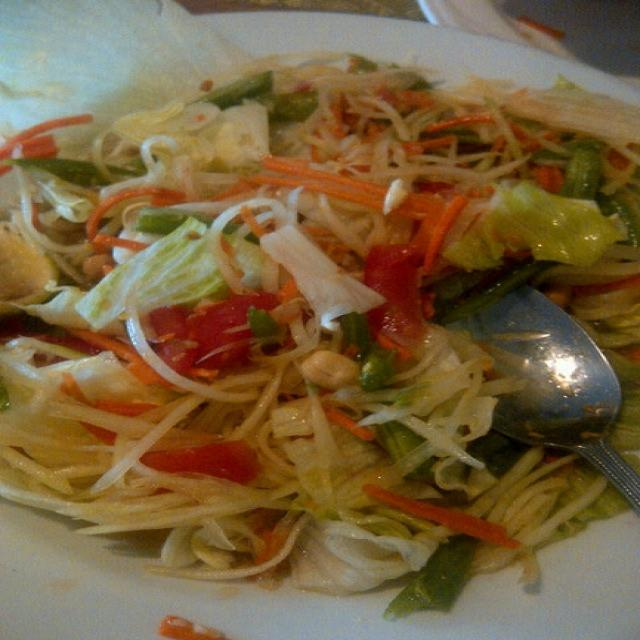蔬菜料理: (6, 35, 631, 602)
